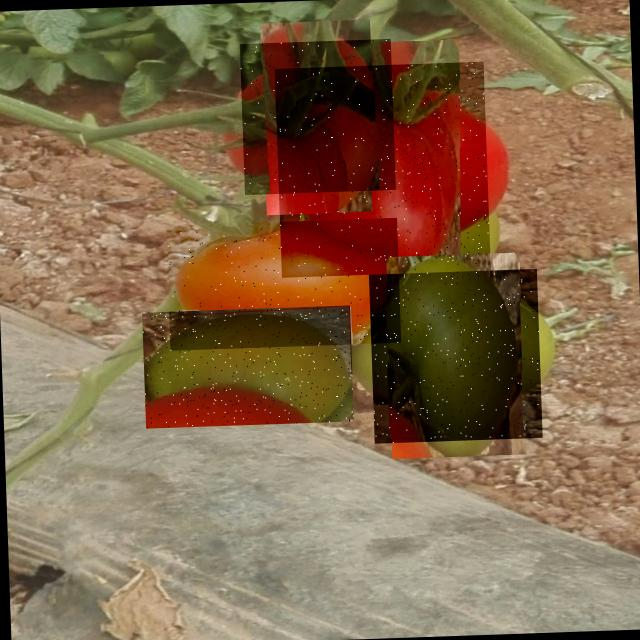Ripe Tomato: (274, 61, 490, 277), (166, 218, 400, 350), (240, 39, 396, 194)
Unripe Tomato: (368, 268, 542, 444), (142, 305, 354, 428)
